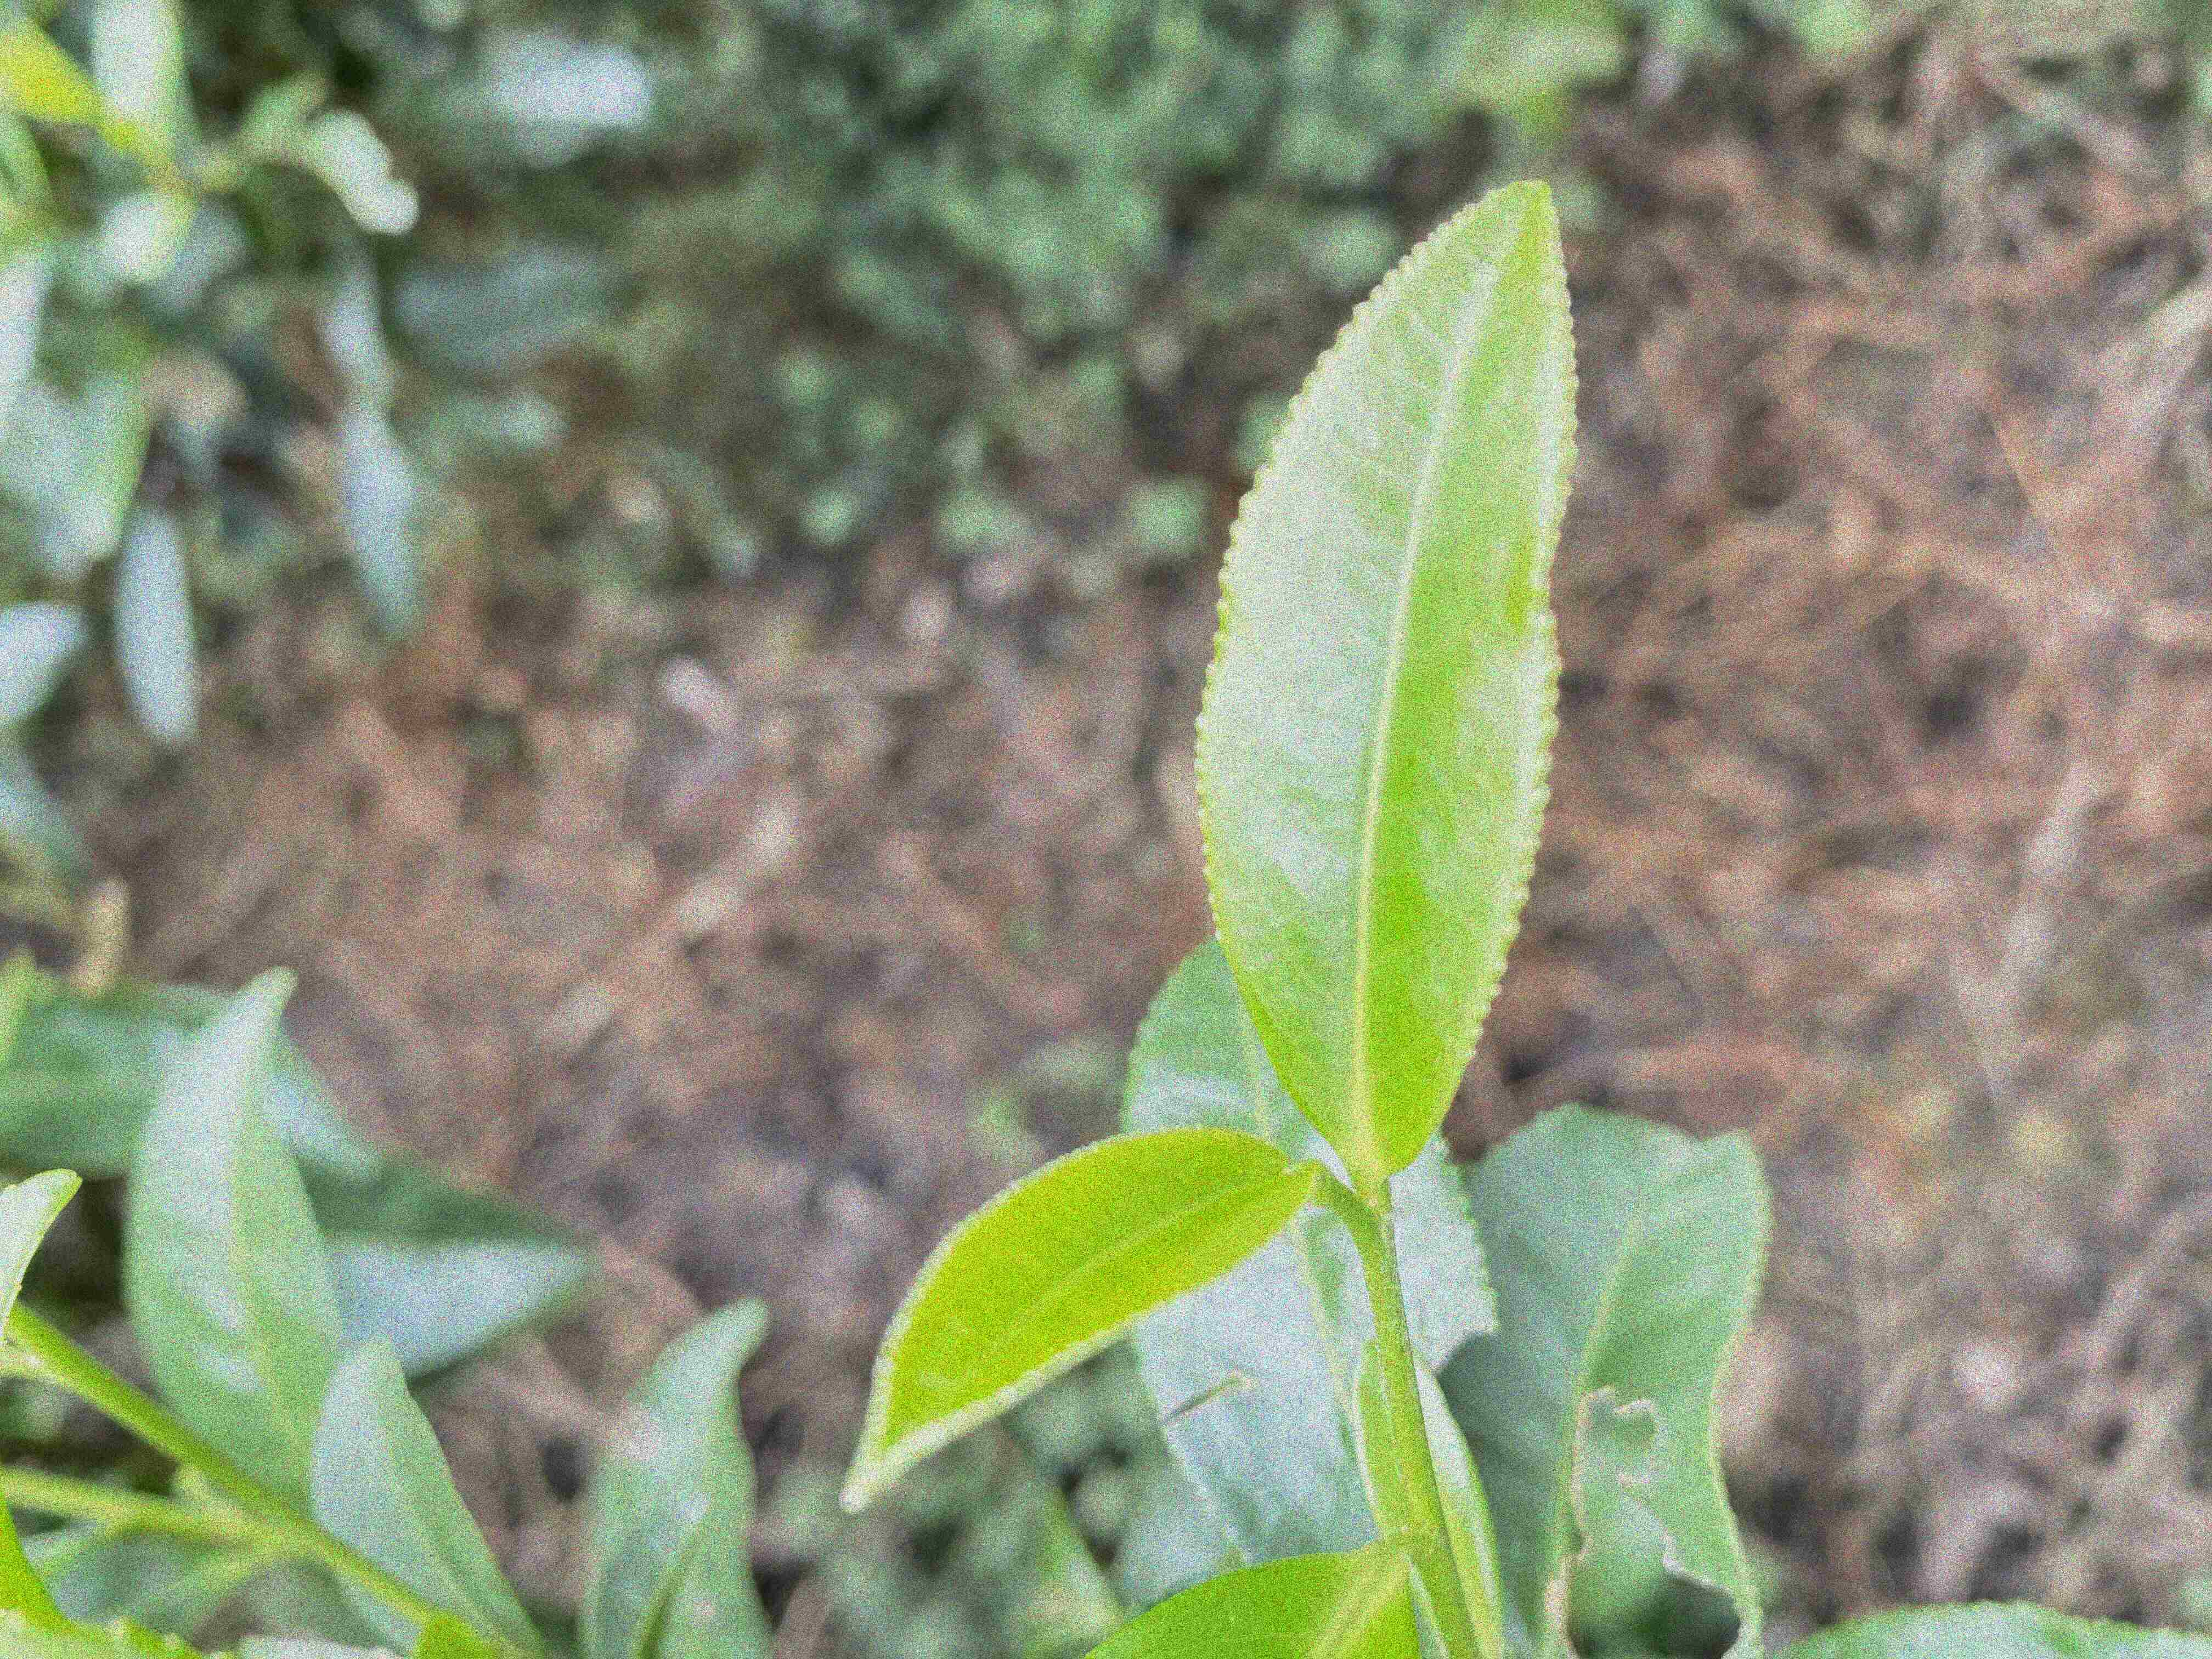chihuo_high: (1470, 1101, 1764, 1657)
healthy: (1197, 176, 1587, 1176), (838, 1121, 1315, 1509)
